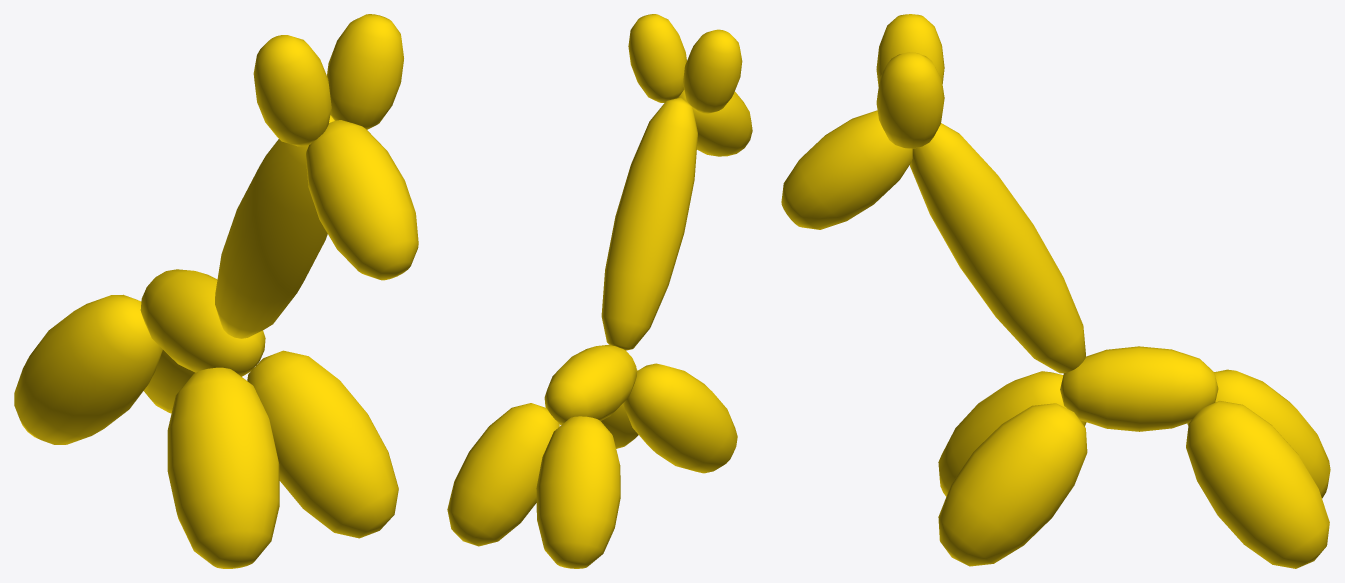
Rendered from balloonGiraffe.fbx.
3 views of the same model, side by side, from view 1: azimuth 30°, elevation 25°; view 2: azimuth 150°, elevation 25°; view 3: azimuth 270°, elevation 25° (orthographic). The views are drawn at different scales.
Visible parts, largest first — view 1: Sphere.013; view 2: Sphere.013; view 3: Sphere.013.
Part boxes in pixels (<box>): Sphere.013: <box>14,14,418,568</box>; Sphere.013: <box>447,14,752,568</box>; Sphere.013: <box>781,14,1330,568</box>.
Size of the model in its own units: 57.9 by 149 by 148.
